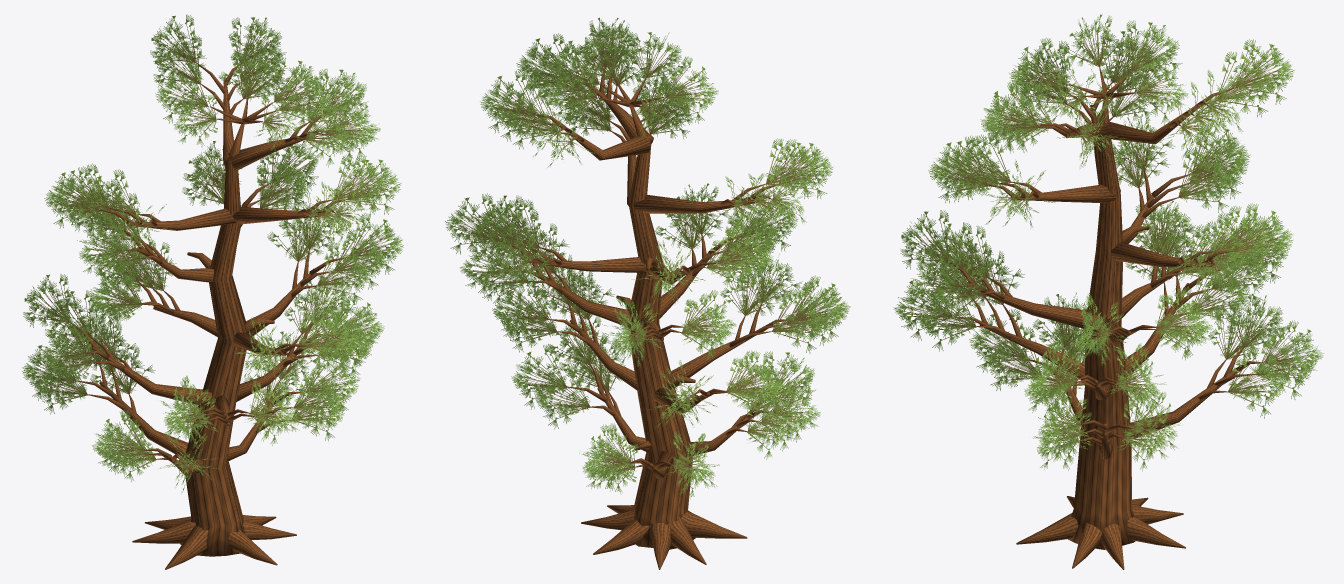
The model's file is WindsweptPine.fbx.
The picture shows the model from 3 angles, left to right: view 1: azimuth 30°, elevation 25°; view 2: azimuth 150°, elevation 25°; view 3: azimuth 270°, elevation 25°; orthographic projection. The views are drawn at different scales.
Parts seen in each view (by area): view 1: SM_WindsweptPine_Foliage_LOD0, SM_WindsweptPine_Bark_LOD0; view 2: SM_WindsweptPine_Foliage_LOD0, SM_WindsweptPine_Bark_LOD0; view 3: SM_WindsweptPine_Foliage_LOD0, SM_WindsweptPine_Bark_LOD0.
Part boxes in pixels (<box>): SM_WindsweptPine_Foliage_LOD0: <box>22,14,403,492</box>; SM_WindsweptPine_Bark_LOD0: <box>71,63,348,569</box>; SM_WindsweptPine_Foliage_LOD0: <box>445,17,850,499</box>; SM_WindsweptPine_Bark_LOD0: <box>500,68,787,569</box>; SM_WindsweptPine_Foliage_LOD0: <box>893,14,1323,471</box>; SM_WindsweptPine_Bark_LOD0: <box>950,67,1263,569</box>.
Size of what is drawn, in the model's own units: 6.93 by 9.08 by 7.11.
2 materials, 2 textured.
